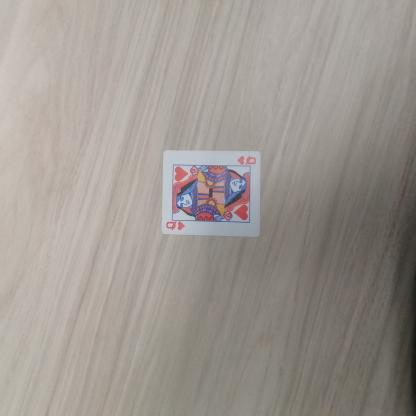QH: (233, 150, 264, 176), (162, 217, 192, 233)
